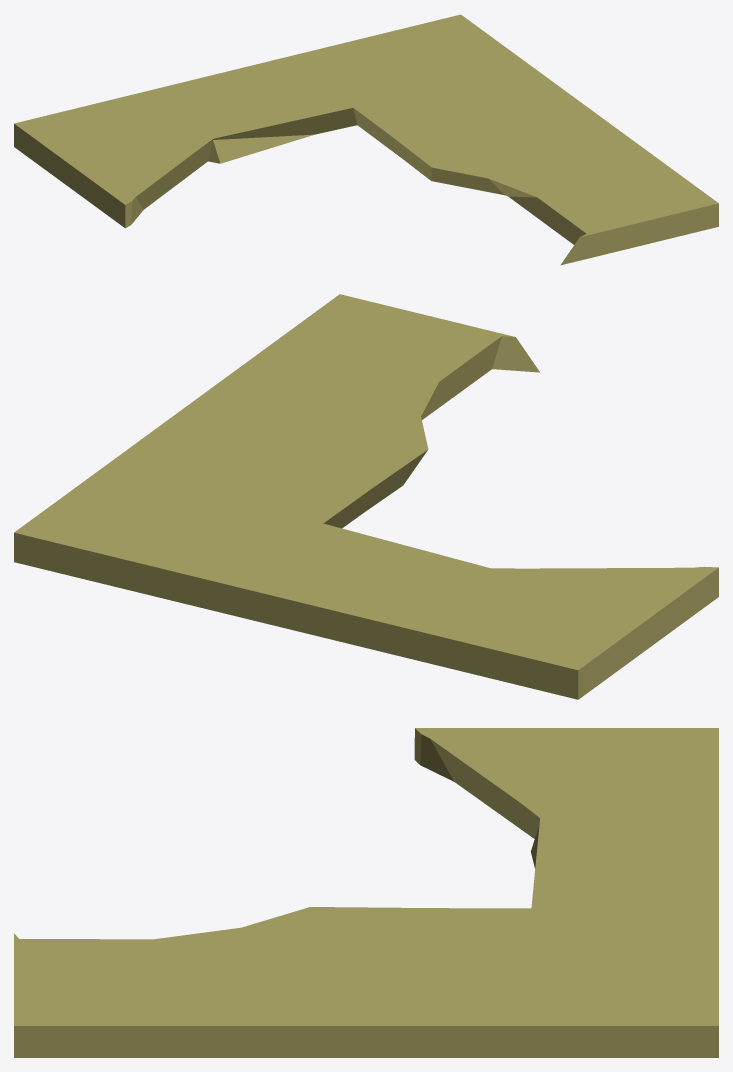
Rendered from Ceiling_001.glb.
3 views of the same model, one above another, from view 1: azimuth 30°, elevation 25°; view 2: azimuth 150°, elevation 25°; view 3: azimuth 270°, elevation 25° (orthographic). The views are drawn at different scales.
Parts seen in each view (by area): view 1: Ceiling.001; view 2: Ceiling.001; view 3: Ceiling.001.
Boxes of the visible parts, left/top/right/bottom form: Ceiling.001: left=14, top=14, right=718, bottom=265; Ceiling.001: left=14, top=294, right=718, bottom=699; Ceiling.001: left=14, top=728, right=718, bottom=1057.
Size of the model in its own units: 2 by 0.1 by 2.
